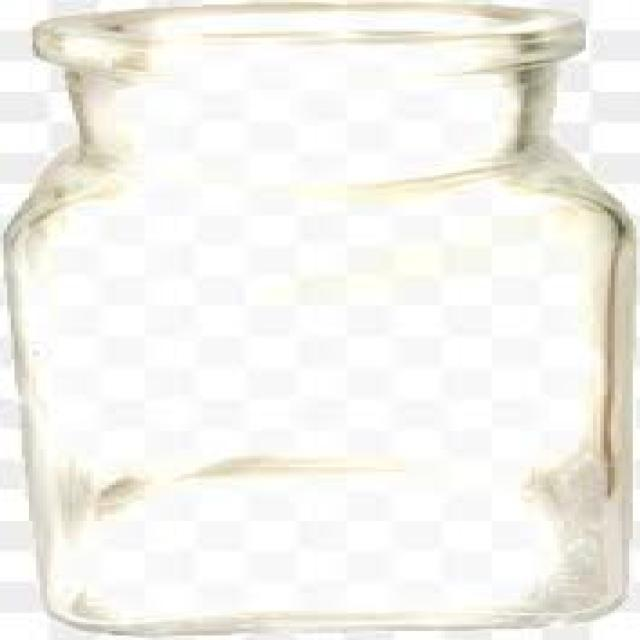glass: (0, 2, 636, 637)
